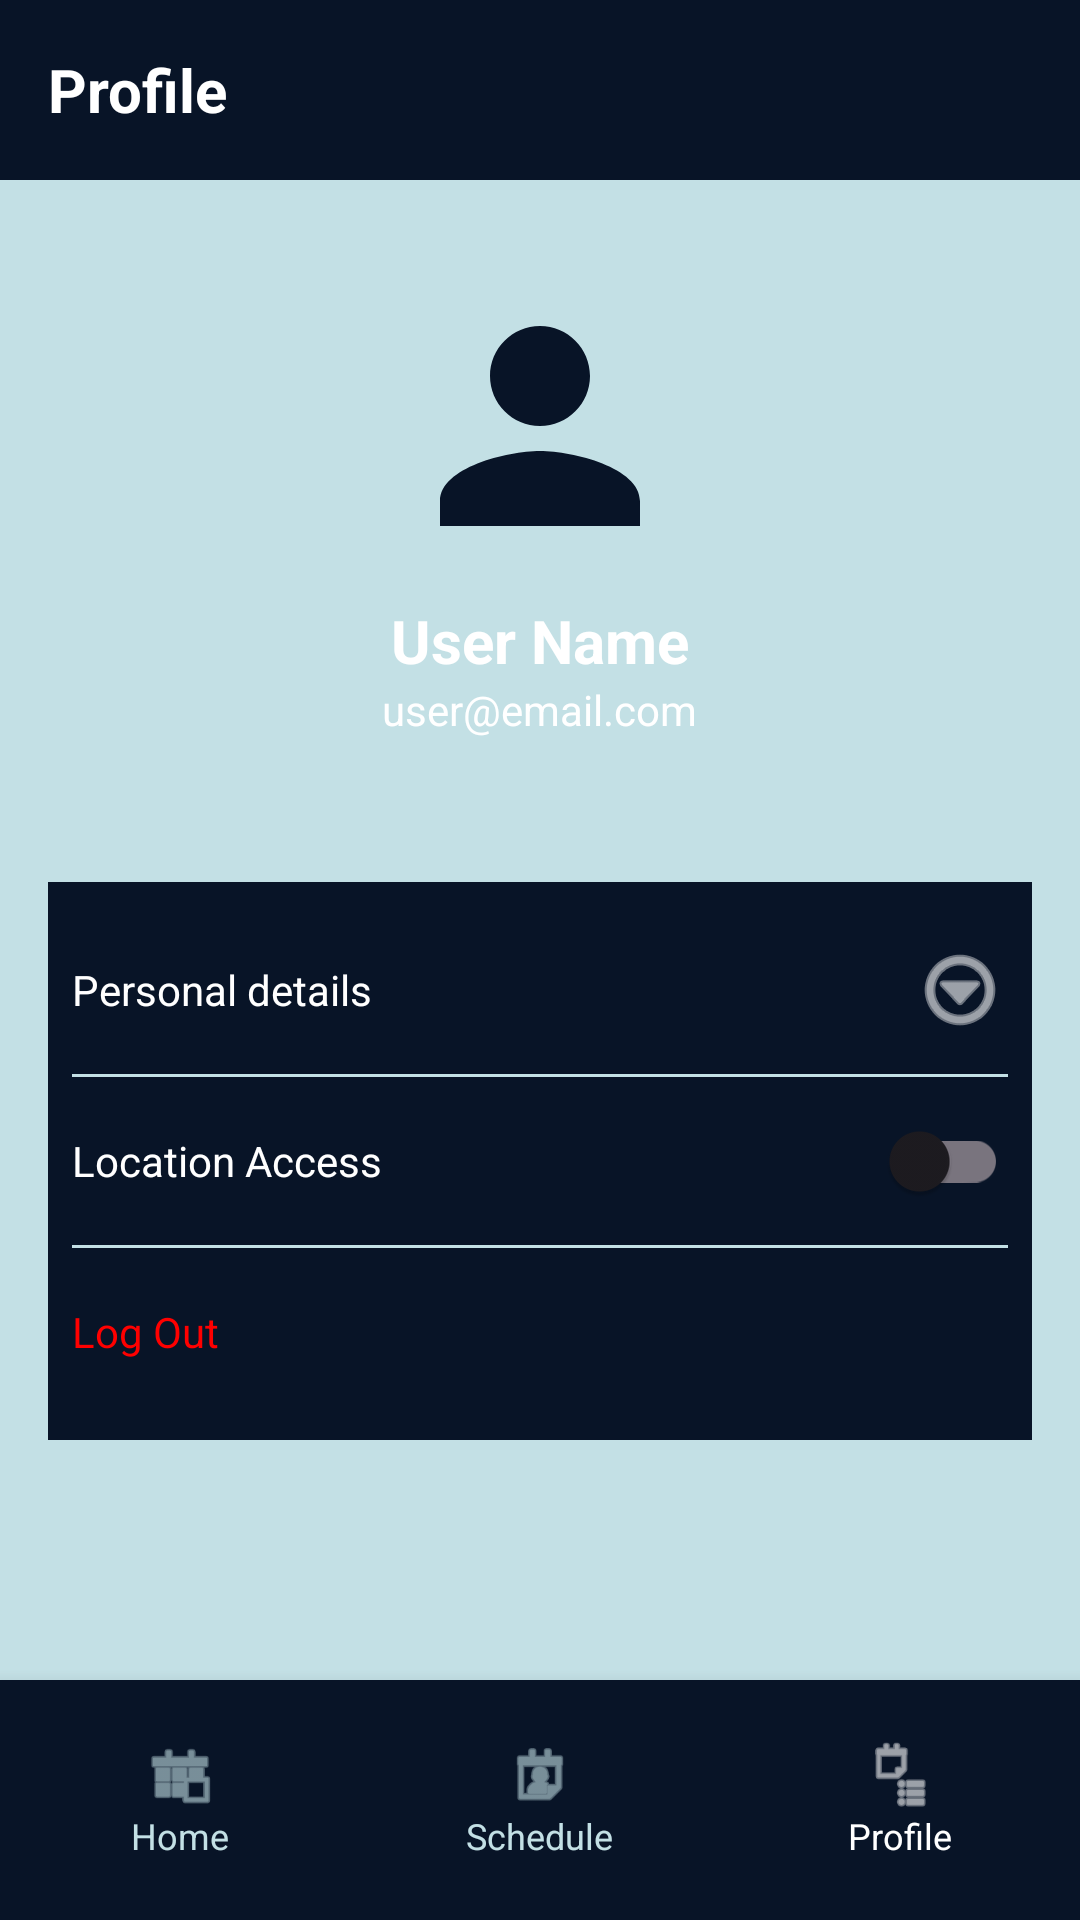

Named icons in this screenshot (1080*1920) and their centers, [x,y]:
agenda: [900,1775]
calendar: [540,1774]
today: [180,1776]
user profile: [540,426]
